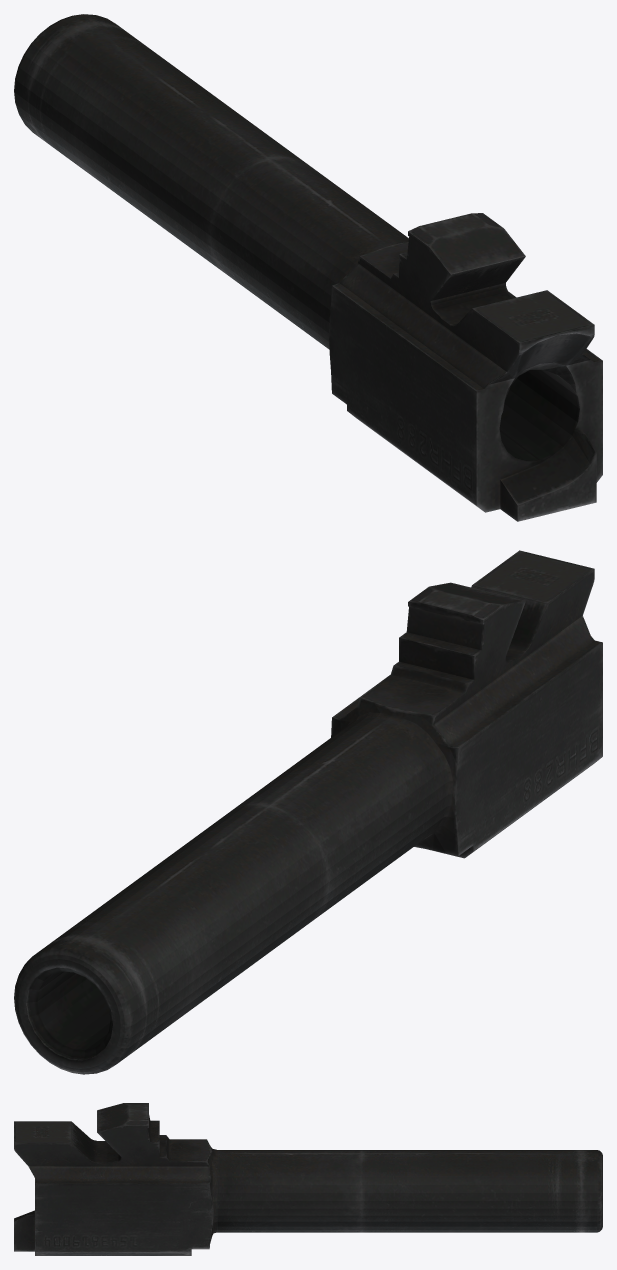
3 renders of one model, top to bottom at view 1: azimuth 30°, elevation 25°; view 2: azimuth 150°, elevation 25°; view 3: azimuth 270°, elevation 25°, orthographic. The views are drawn at different scales.
Parts seen in each view (by area): view 1: TW_630764fea987397c0816d219_PZ_Import; view 2: TW_630764fea987397c0816d219_PZ_Import; view 3: TW_630764fea987397c0816d219_PZ_Import.
Boxes of the visible parts, x1,y1,x2,y2 form: TW_630764fea987397c0816d219_PZ_Import: (14,14,602,521); TW_630764fea987397c0816d219_PZ_Import: (14,550,602,1074); TW_630764fea987397c0816d219_PZ_Import: (14,1103,602,1255).
Bounding box in the file's own units: 0.00884 × 0.0591 × 0.0141.
Materials: 1 (1 with a texture image).
